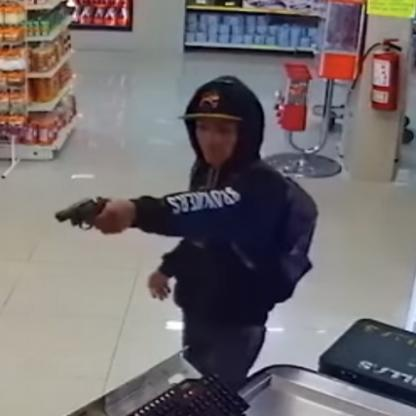criminal: (55, 74, 319, 382)
weapon: (55, 194, 113, 234)
